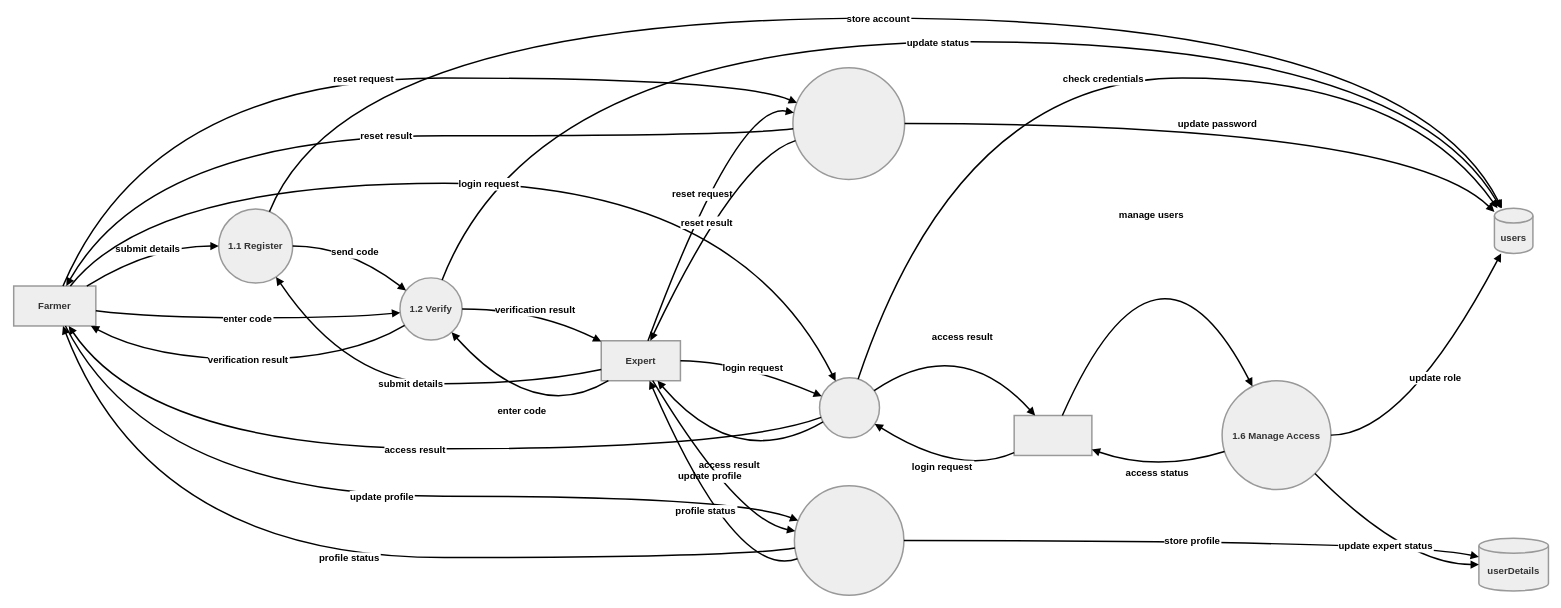
Some shapes in this 1561 by 608 pixel diagram are drawn without their labels. The shapes that lost their labels are listed below. From the top down, each one's box as (x1, y1, x2, y2) in pixels, then its label:
(792, 67, 905, 180): 1.4 Reset Password
(818, 377, 880, 438): 1.3 Login
(1013, 414, 1092, 456): Admin
(793, 485, 904, 596): 1.5 Manage Profile
